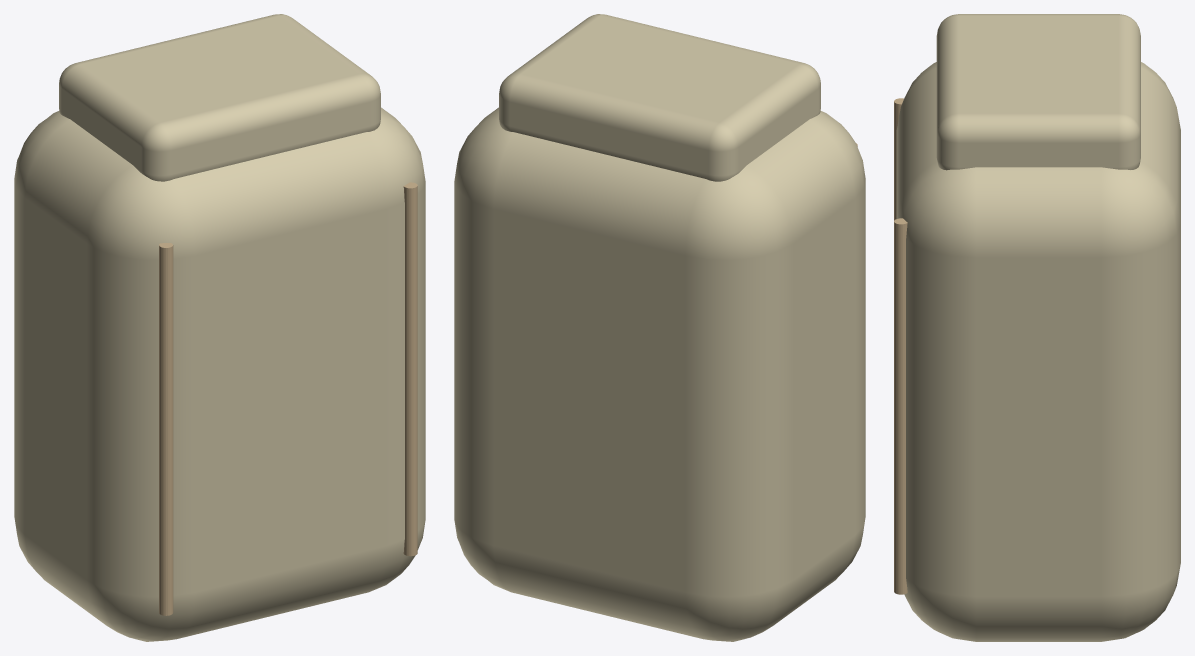
File: coastal-saltworks-and-trade-port-coastal-saltworks-and-a75c7e58__31393.glb
3 renders of one model, left to right at view 1: azimuth 30°, elevation 25°; view 2: azimuth 150°, elevation 25°; view 3: azimuth 270°, elevation 25°, orthographic.
Visible parts, largest first — view 1: coastal-saltworks-and-trade-port-woven-salt-sack; view 2: coastal-saltworks-and-trade-port-woven-salt-sack; view 3: coastal-saltworks-and-trade-port-woven-salt-sack.
Part boxes in pixels (x1,y1,x2,y2): coastal-saltworks-and-trade-port-woven-salt-sack: [14, 14, 425, 641]; coastal-saltworks-and-trade-port-woven-salt-sack: [454, 14, 865, 641]; coastal-saltworks-and-trade-port-woven-salt-sack: [894, 14, 1180, 641].
Size of the model in its own units: 0.43 by 0.65 by 0.323.
